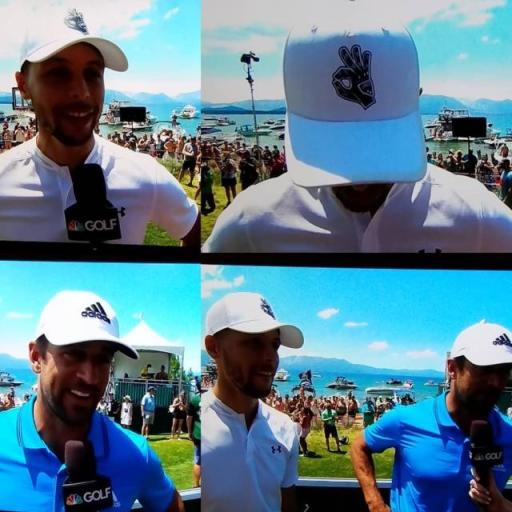Adidas: (80, 300, 113, 325)
